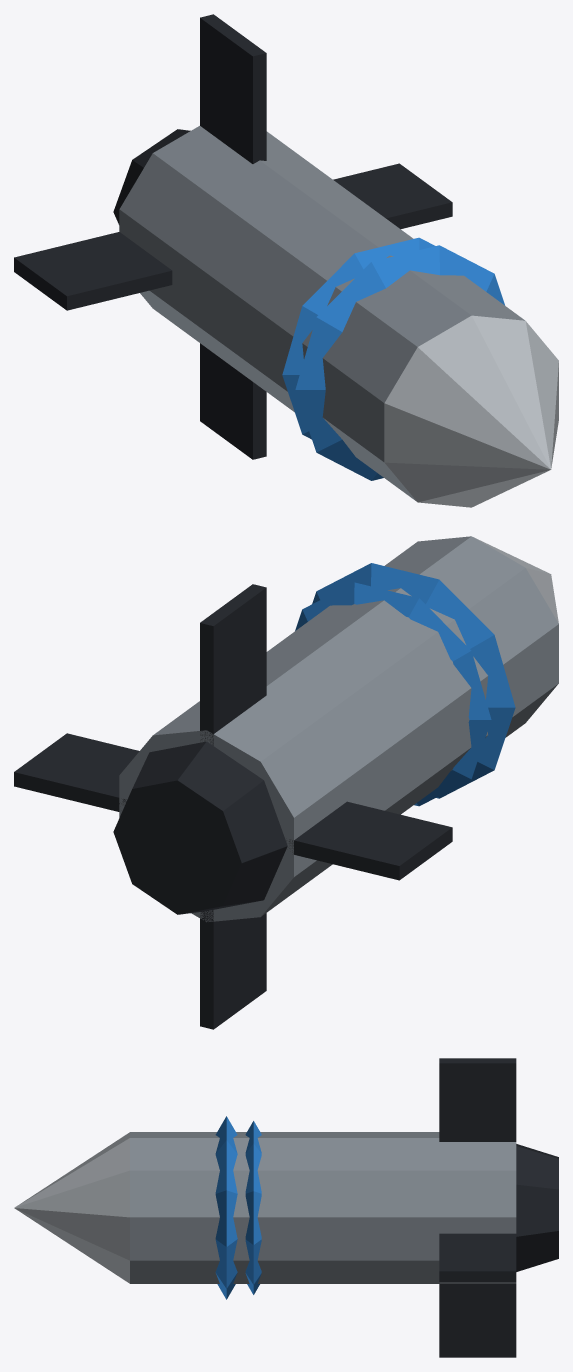
File: rocket-ion.glb
The picture shows the model from 3 angles, top to bottom: view 1: azimuth 30°, elevation 25°; view 2: azimuth 150°, elevation 25°; view 3: azimuth 270°, elevation 25°; orthographic projection. The views are drawn at different scales.
Parts seen in each view (by area): view 1: m; view 2: m; view 3: m.
Part boxes in pixels (bbox=[...]): m: bbox=[14, 14, 558, 507]; m: bbox=[14, 536, 558, 1029]; m: bbox=[14, 1058, 558, 1357].
Bounding box in the file's own units: 0.0968 × 0.0968 × 0.1625.
